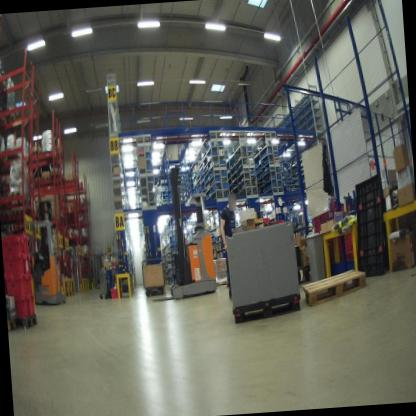forklift: (143, 158, 222, 305), (25, 195, 71, 312)
pallet: (302, 268, 367, 302), (232, 294, 303, 324), (17, 314, 39, 331), (8, 320, 18, 334)
small_load_carrier: (6, 274, 28, 302), (3, 254, 26, 276), (10, 297, 30, 321), (2, 233, 23, 255), (24, 272, 37, 296), (23, 254, 34, 278), (26, 292, 37, 314), (21, 233, 32, 254), (109, 285, 123, 301)
